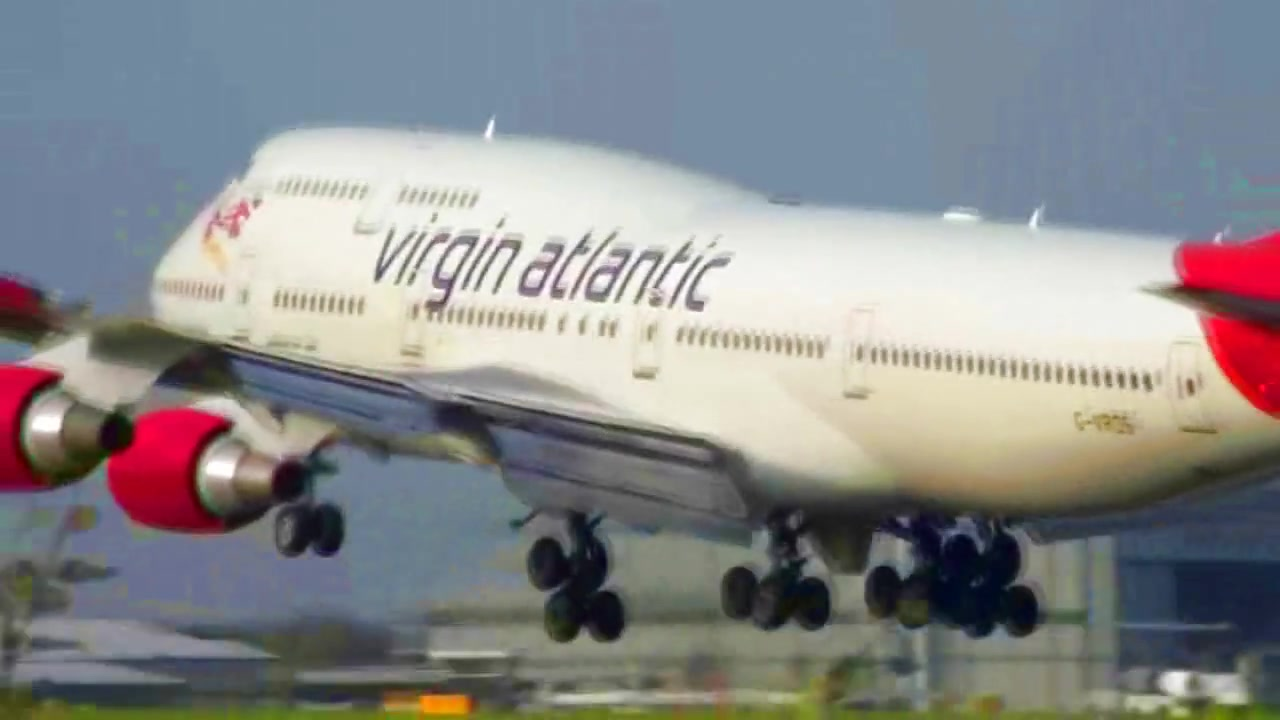aeroplane: (1, 125, 1280, 638)
